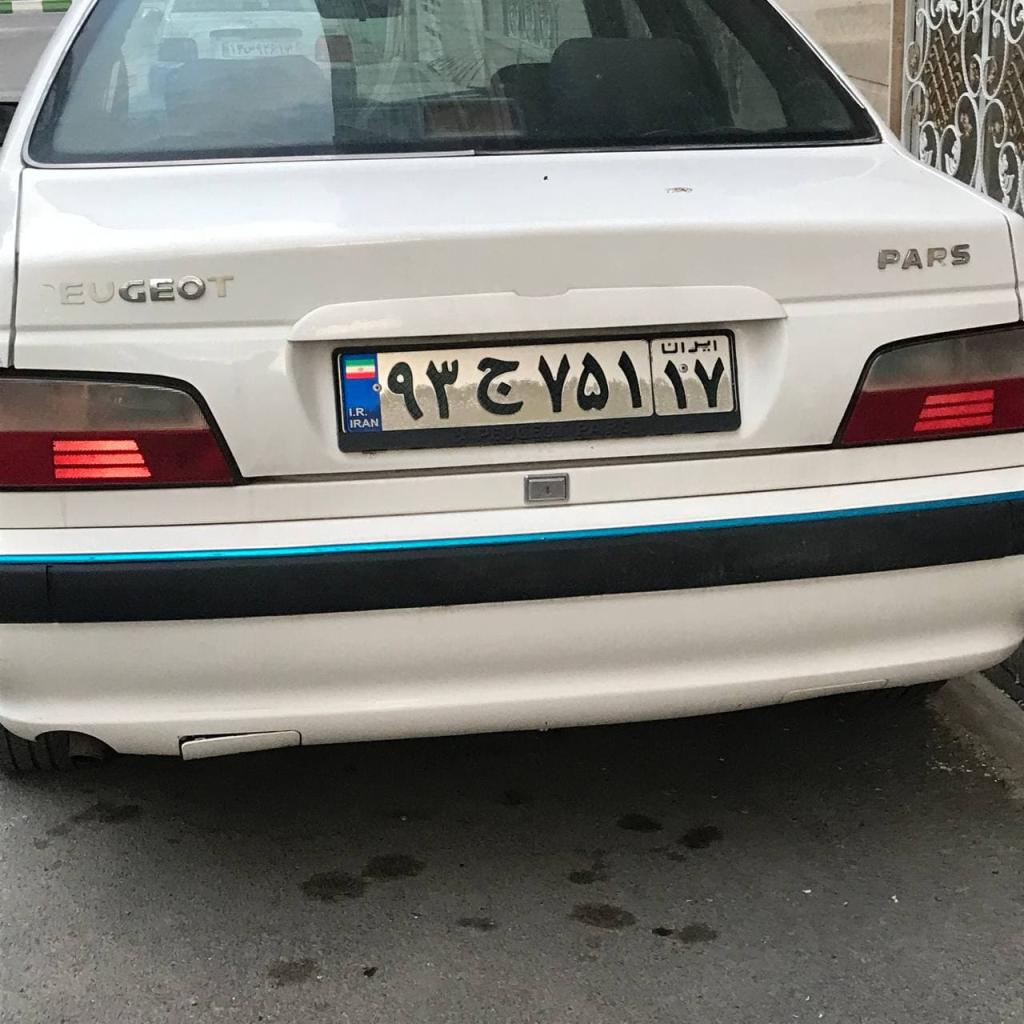Plates: (338, 335, 737, 435)
